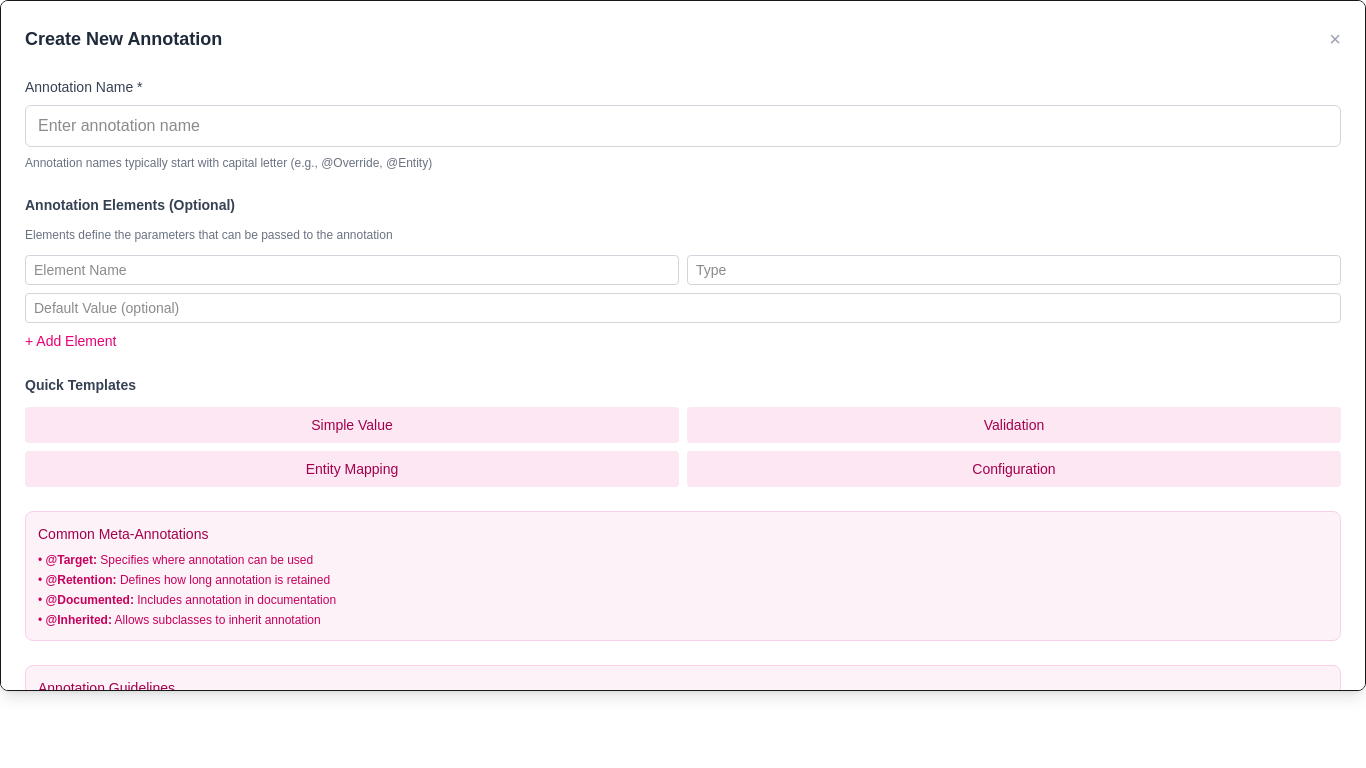
Test: CreateAnnotation component › adds and removes an element
Add element
Type "value" into the field with placeholder "Element Name" at [352, 270], box 25,255 -> 679,285
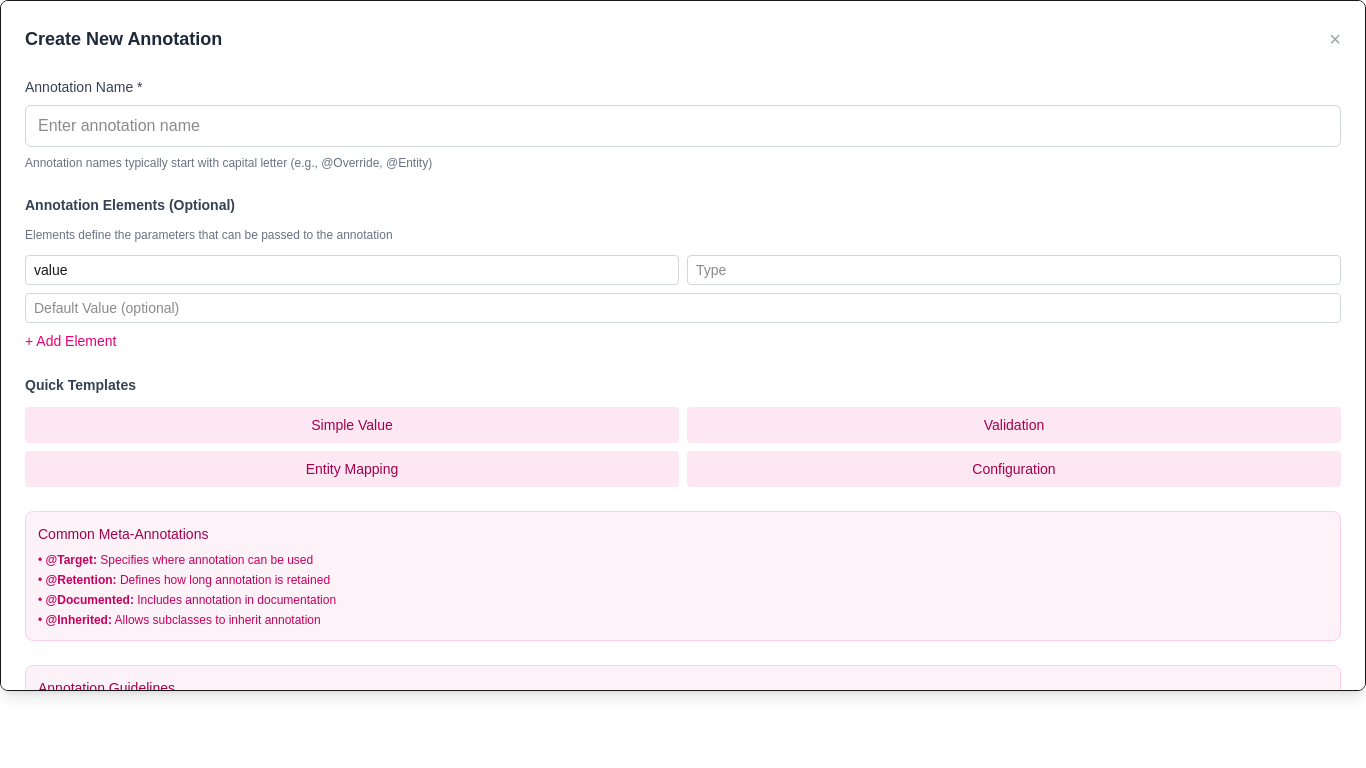
Type "String" into the field with placeholder "Type" at [1014, 270], box 687,255 -> 1341,285
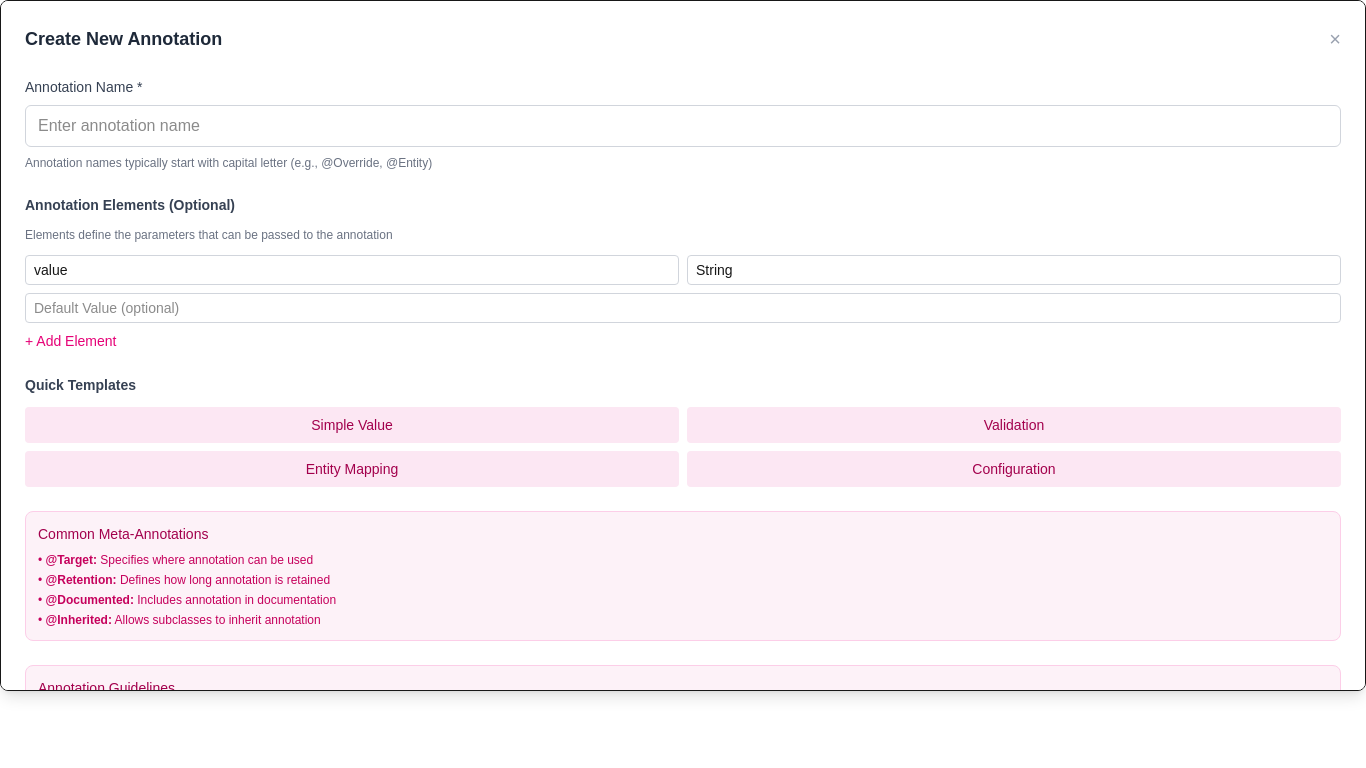
Click the button "+ Add Element" at [71, 341], box 25,331 -> 116,351
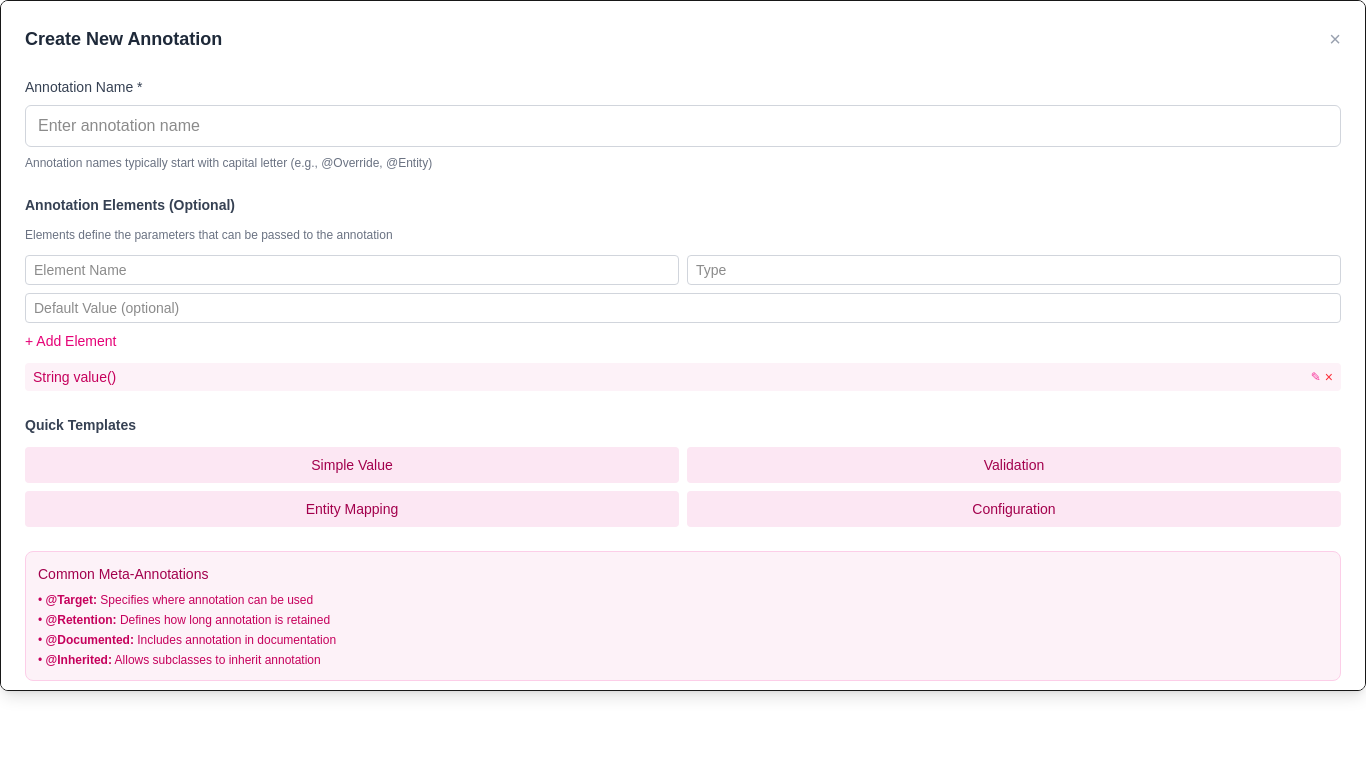
Expected: the text "String value()" is shown, 33,369 -> 116,385
Remove it
Click the button named "Remove element" at [1329, 377], box 1325,367 -> 1333,387
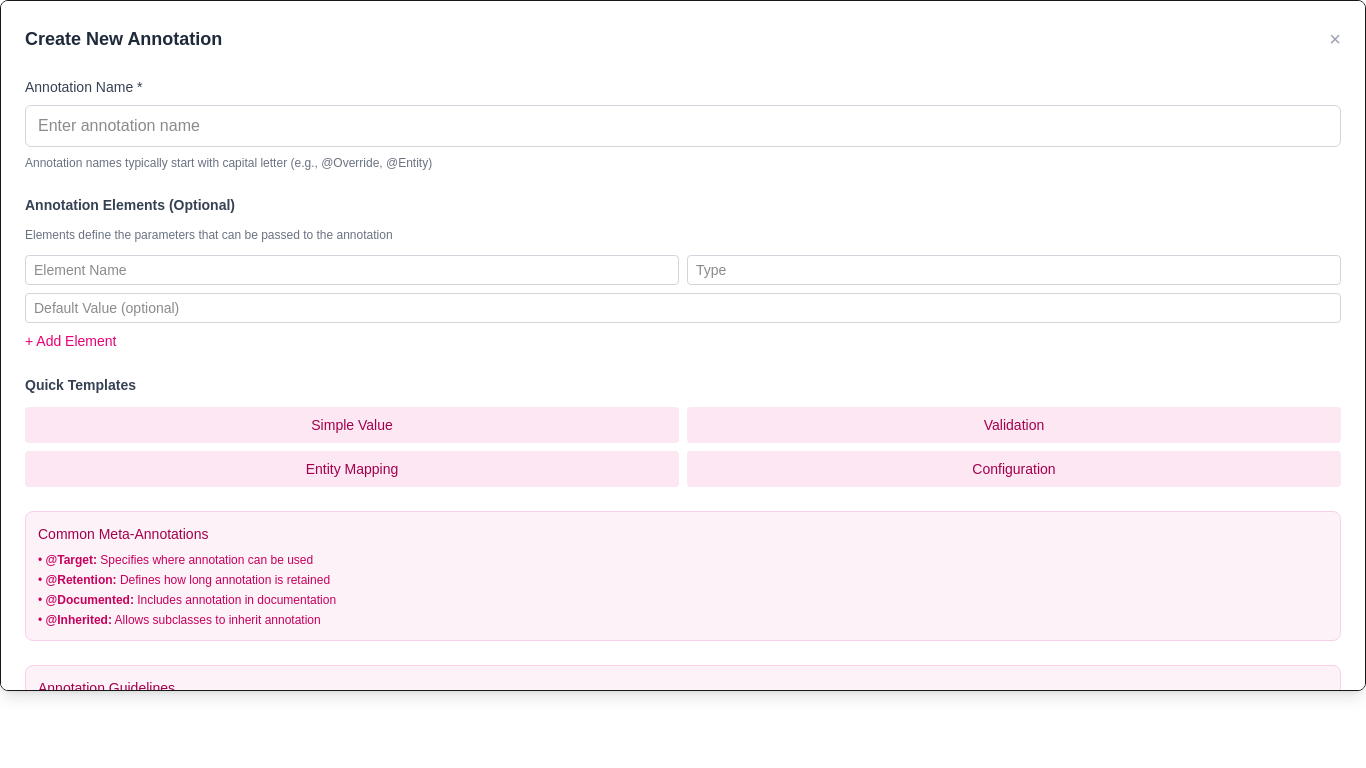
Expected: the text "String value()" is gone
